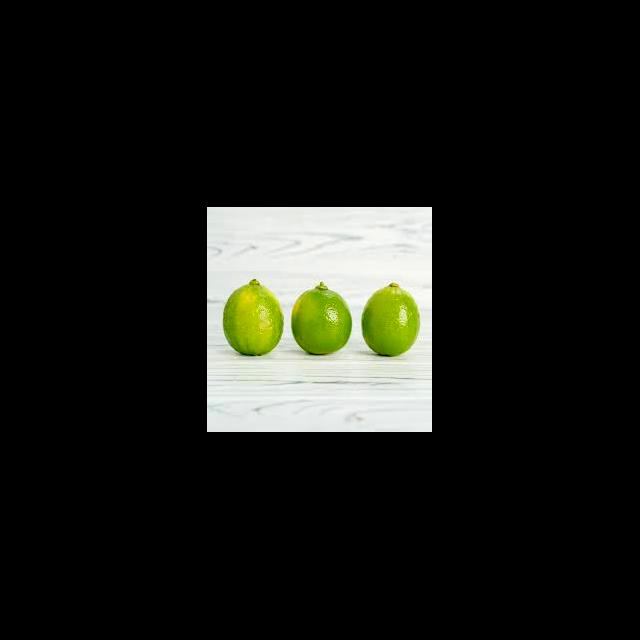lime: (224, 280, 284, 358), (362, 282, 422, 358), (290, 284, 352, 356)
